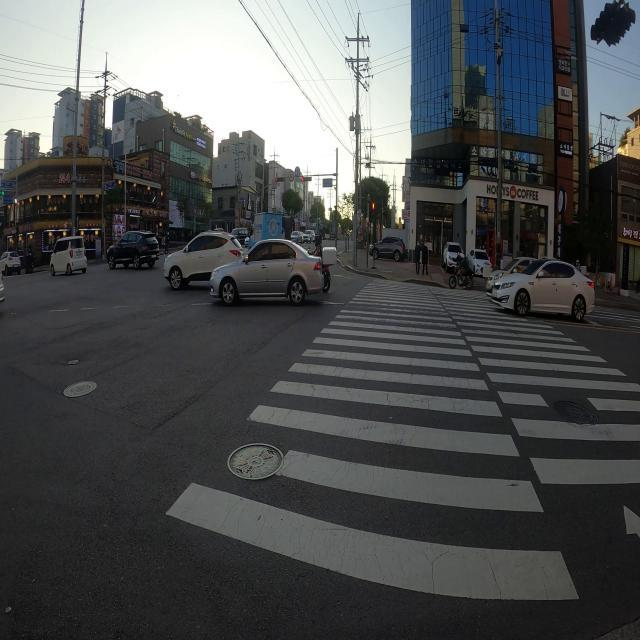crosswalk: (156, 272, 640, 607)
